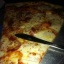pizza: (1, 4, 61, 64)
